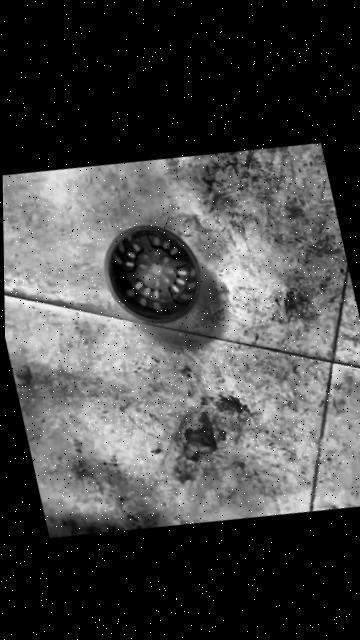pot: (95, 210, 210, 338)
